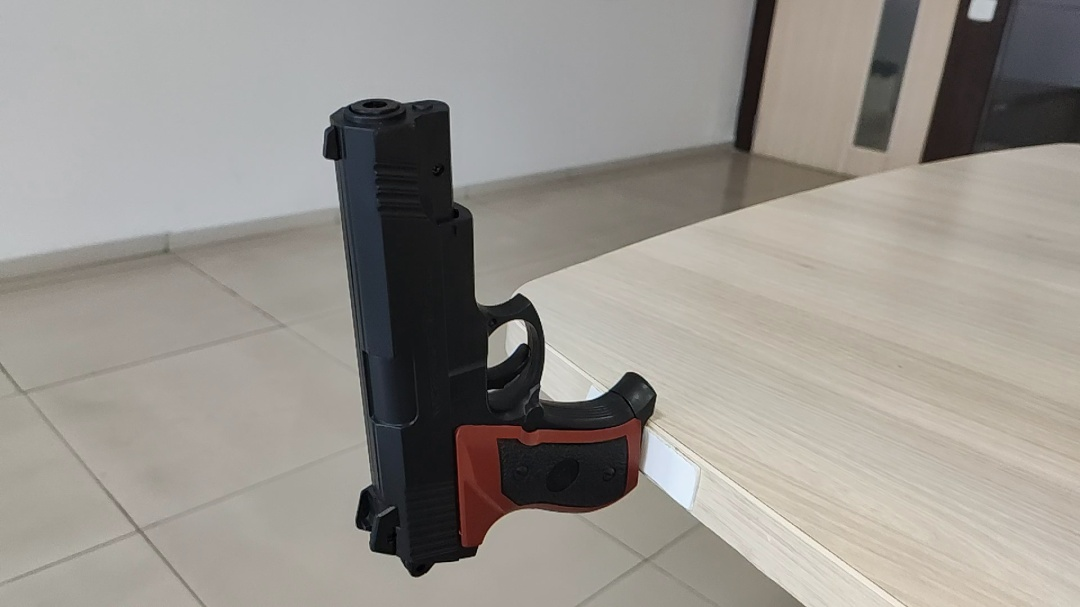gun: (322, 97, 657, 579)
